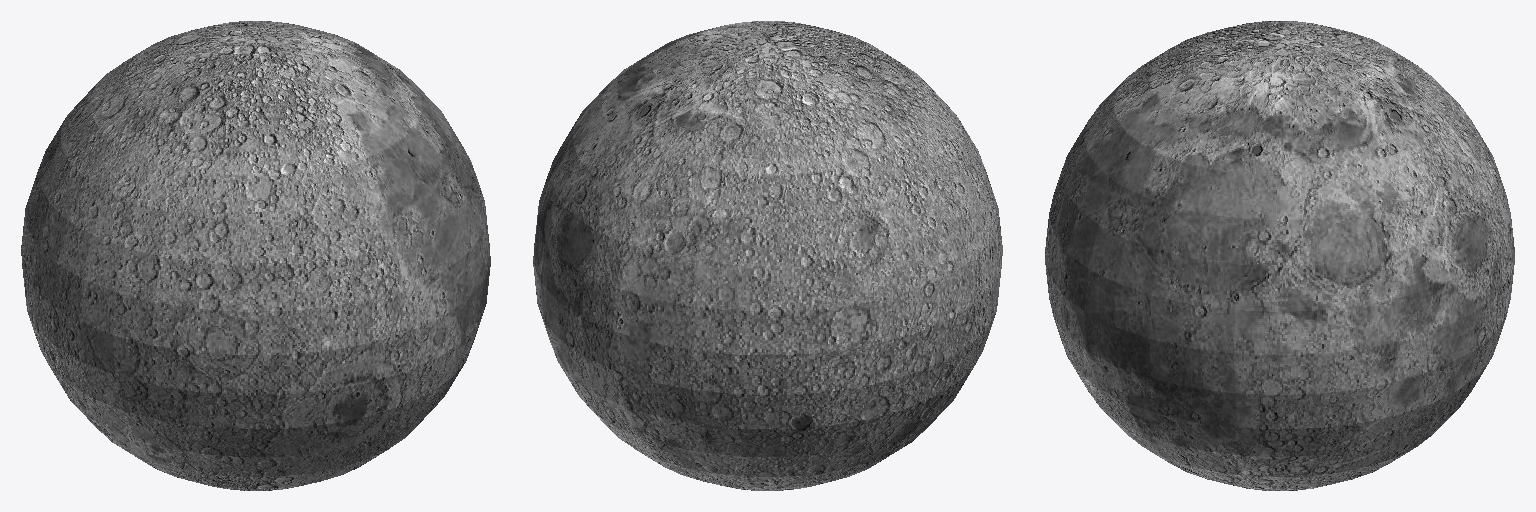
The picture shows the model from 3 angles: view 1: azimuth 30°, elevation 25°; view 2: azimuth 150°, elevation 25°; view 3: azimuth 270°, elevation 25°; orthographic projection.
Visible parts, largest first — view 1: Sphere; view 2: Sphere; view 3: Sphere.
Part boxes in pixels (left/top/right/bottom): Sphere: left=21, top=21, right=490, bottom=490; Sphere: left=533, top=21, right=1002, bottom=490; Sphere: left=1045, top=21, right=1514, bottom=490.
Size of the model in its own units: 0.8724 by 0.8724 by 0.8724.
1 materials, 1 textured.